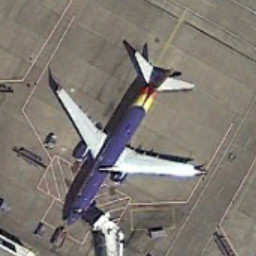Airplane: (37, 43, 215, 235)
